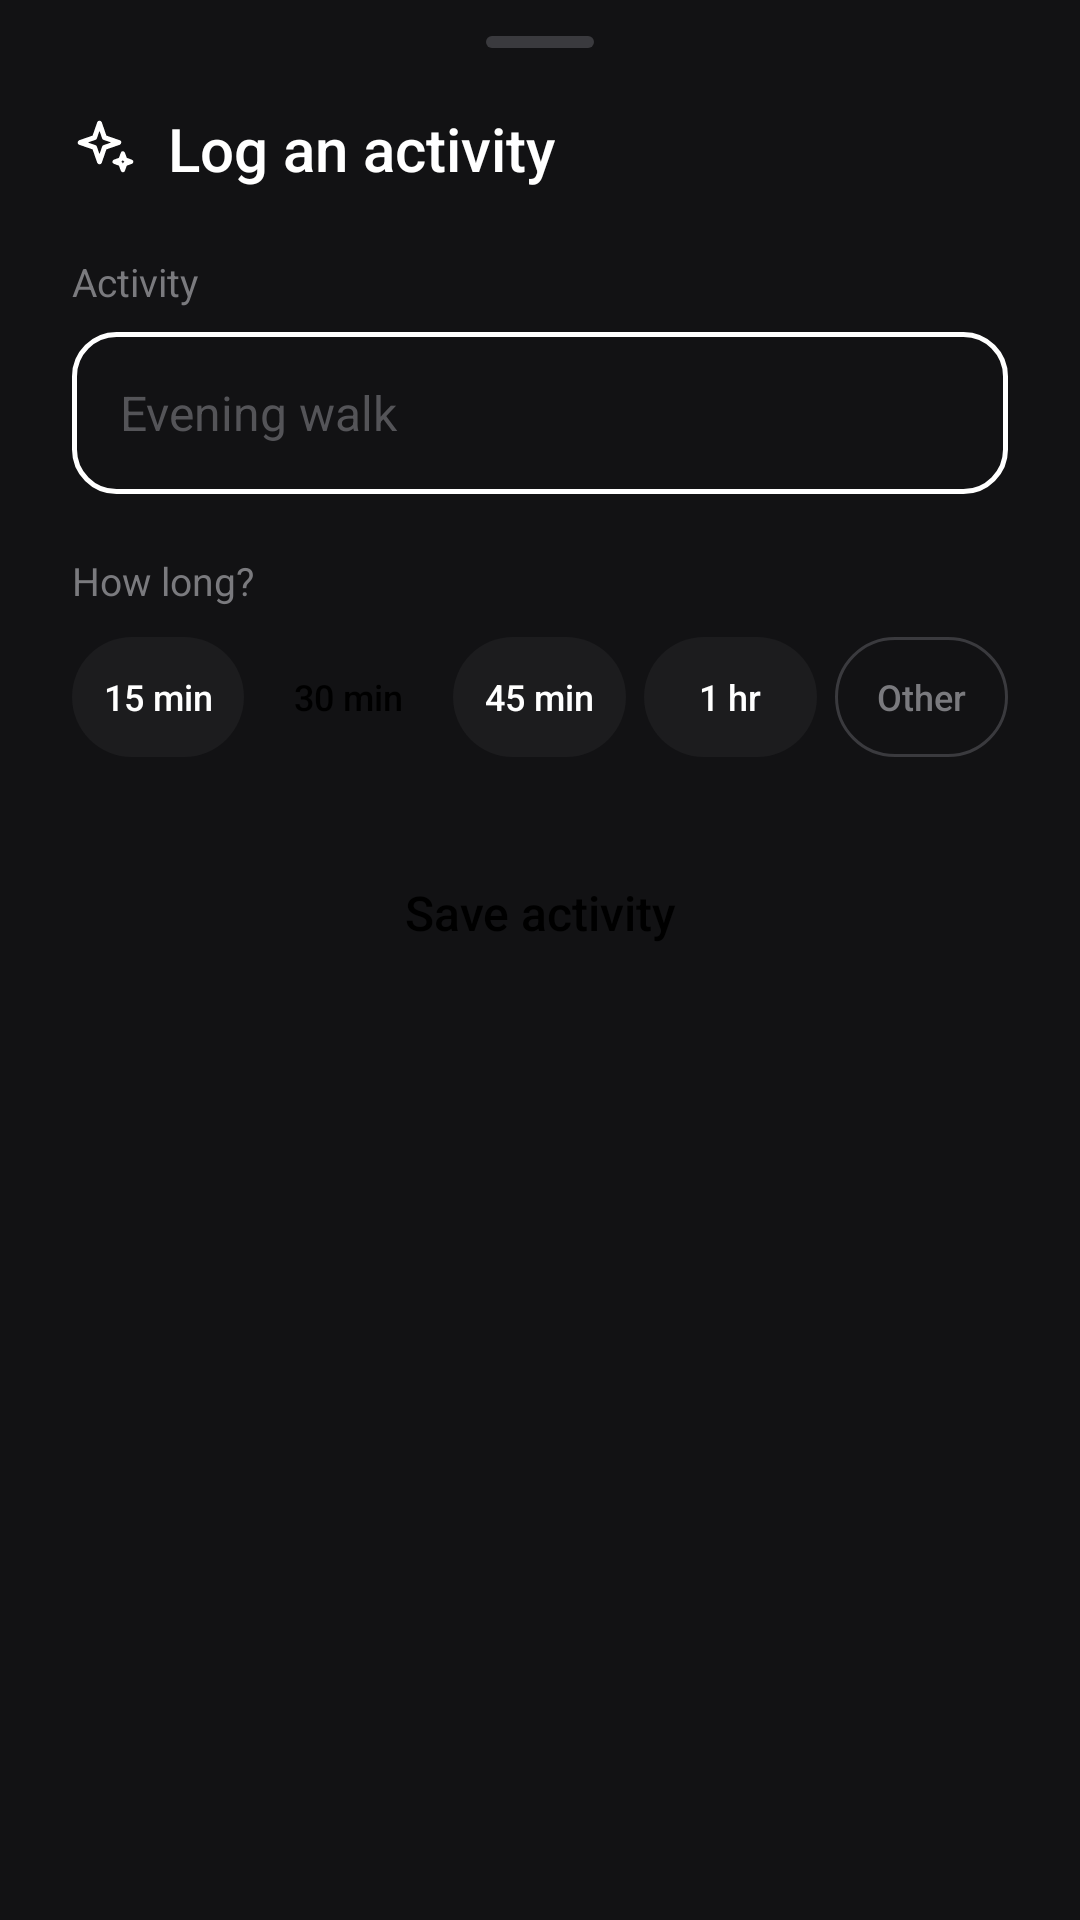

Screen size 1080×1920. Icon name, then its box in pixels as Rect(x1, y1, x2, y2):
AI: Rect(77, 120, 134, 173)
